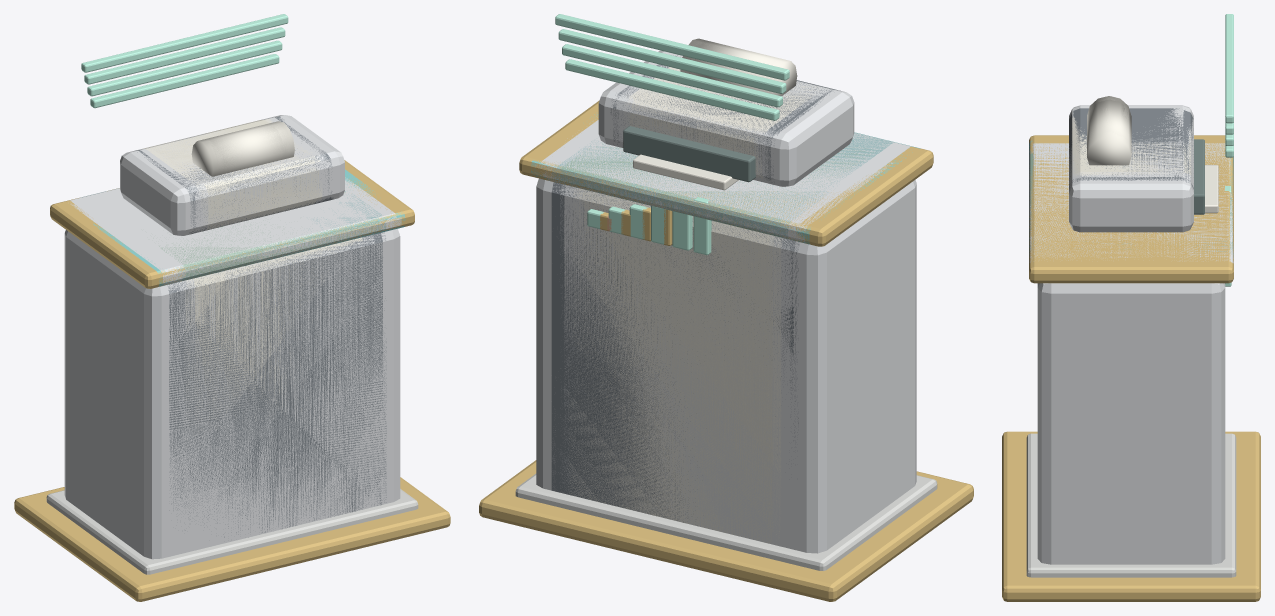
File: Gear05.fbx
3 views of the same model, side by side, from view 1: azimuth 30°, elevation 25°; view 2: azimuth 150°, elevation 25°; view 3: azimuth 270°, elevation 25° (orthographic). The views are drawn at different scales.
Parts seen in each view (by area): view 1: Gear05_V10_Platinum, Gear05_V8_Graphite, Gear05_V7_Graphite, Gear05_V9_Platinum, Gear05_V10_Gold, Gear05_V1_Ivory, Gear05_V5_Platinum, Gear05_V6_Platinum, Gear05_V9_Gold, Gear05_V1_Sage, Gear05_V4_Linen, Gear05_V3_Linen (+15 smaller); view 2: Gear05_V10_Platinum, Gear05_V2_Ivory, Gear05_V9_Platinum, Gear05_V4_Linen, Gear05_V10_Gold, Gear05_V8_Graphite, Gear05_V1_Ivory, Gear05_V5_Platinum, Gear05_V7_Graphite, Gear05_V6_Platinum, Gear05_V3_Linen, Gear05_V2_Blue (+21 smaller); view 3: Gear05_V10_Platinum, Gear05_V10_Gold, Gear05_V5_Platinum, Gear05_V10_Chrome, Gear05_V7_Graphite, Gear05_V9_Gold, Gear05_V10_Linen, Gear05_V1_Ivory, Gear05_V6_Platinum, Gear05_V8_Graphite, Gear05_V7_Chrome, Gear05_V3_Linen (+12 smaller).
Part boxes in pixels (x1,y1,x2,y2): Gear05_V10_Platinum: (64, 115, 400, 559); Gear05_V8_Graphite: (137, 116, 386, 537); Gear05_V7_Graphite: (135, 117, 382, 527); Gear05_V9_Platinum: (130, 115, 390, 556); Gear05_V10_Gold: (14, 160, 450, 601); Gear05_V1_Ivory: (194, 120, 347, 428); Gear05_V5_Platinum: (73, 118, 393, 434); Gear05_V6_Platinum: (70, 117, 397, 523); Gear05_V9_Gold: (22, 166, 444, 593); Gear05_V1_Sage: (153, 219, 378, 280); Gear05_V4_Linen: (142, 118, 319, 429); Gear05_V3_Linen: (186, 119, 365, 435); Gear05_V10_Platinum: (536, 50, 916, 553); Gear05_V2_Ivory: (577, 80, 817, 543); Gear05_V9_Platinum: (547, 52, 814, 551); Gear05_V4_Linen: (568, 40, 819, 540); Gear05_V10_Gold: (479, 100, 973, 601); Gear05_V8_Graphite: (551, 90, 840, 525); Gear05_V1_Ivory: (581, 93, 797, 450); Gear05_V5_Platinum: (543, 55, 904, 493); Gear05_V7_Graphite: (556, 55, 836, 510); Gear05_V6_Platinum: (541, 66, 911, 537); Gear05_V3_Linen: (573, 41, 819, 502); Gear05_V2_Blue: (556, 133, 893, 236); Gear05_V10_Platinum: (1037, 105, 1225, 564); Gear05_V10_Gold: (1002, 135, 1260, 601); Gear05_V5_Platinum: (1033, 137, 1229, 257); Gear05_V10_Chrome: (1026, 433, 1236, 577); Gear05_V7_Graphite: (1069, 110, 1193, 189); Gear05_V9_Gold: (1002, 137, 1260, 548); Gear05_V10_Linen: (1087, 96, 1218, 213); Gear05_V1_Ivory: (1070, 123, 1191, 177); Gear05_V6_Platinum: (1029, 119, 1233, 262); Gear05_V8_Graphite: (1037, 108, 1225, 283); Gear05_V7_Chrome: (1026, 439, 1235, 564); Gear05_V3_Linen: (1072, 101, 1218, 200).
Bounding box in the file's own units: 84 × 114 × 58.
